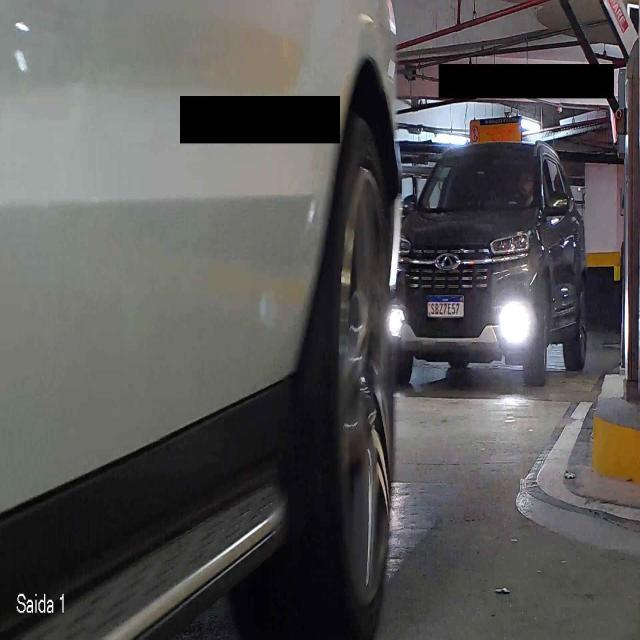mercosul_plate: (425, 294, 466, 320)
